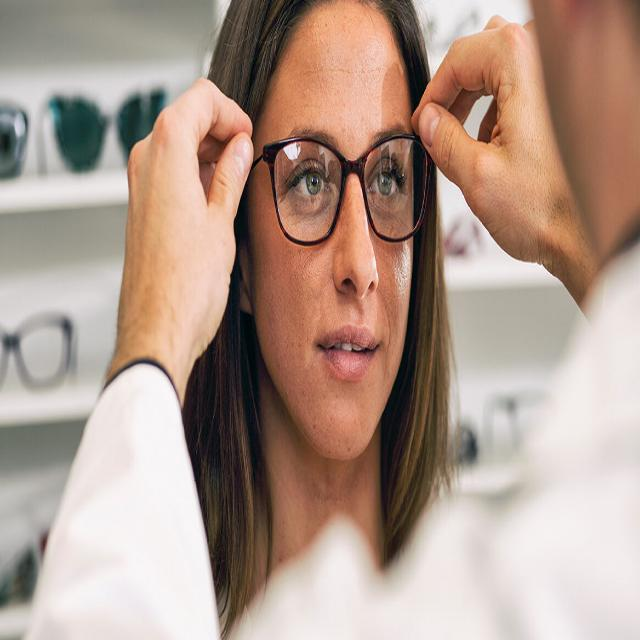Glasses: (253, 126, 432, 252)
